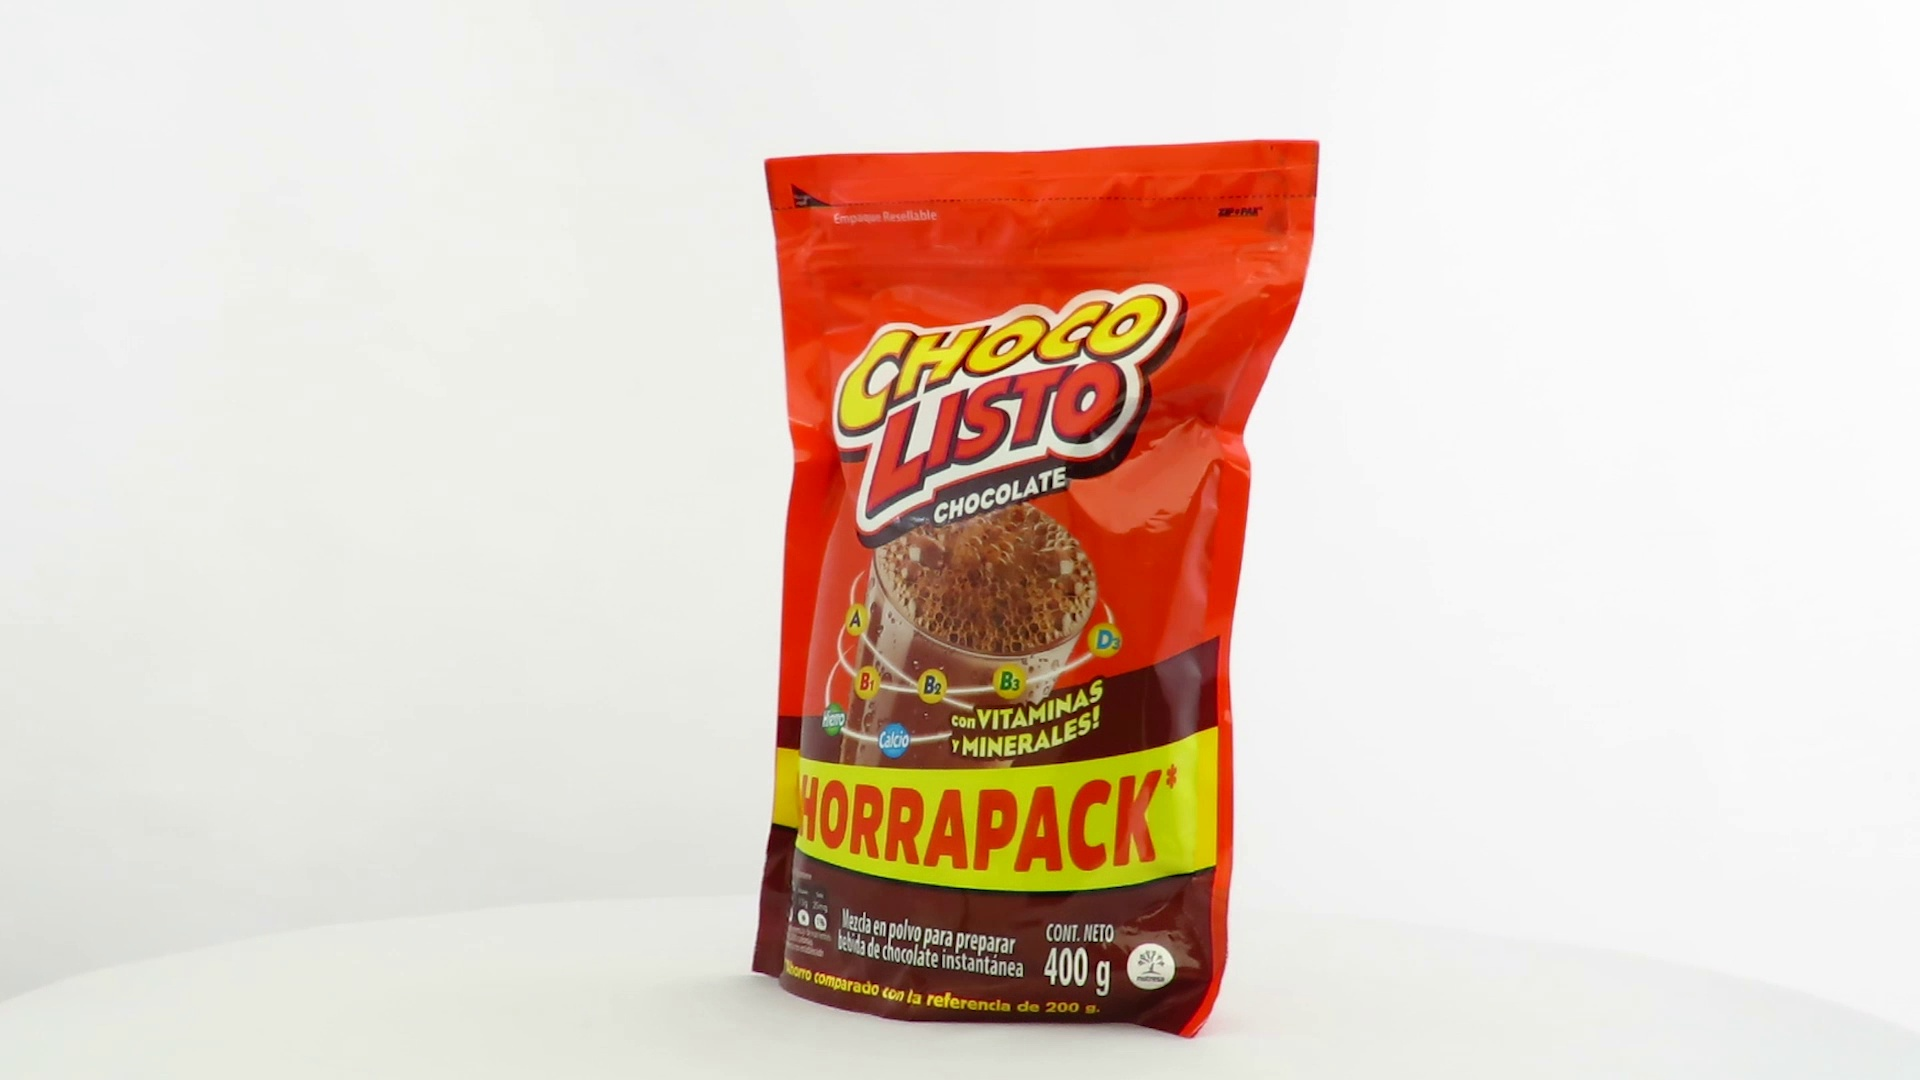COL0170103DYP40000: (746, 135, 1327, 1044)
